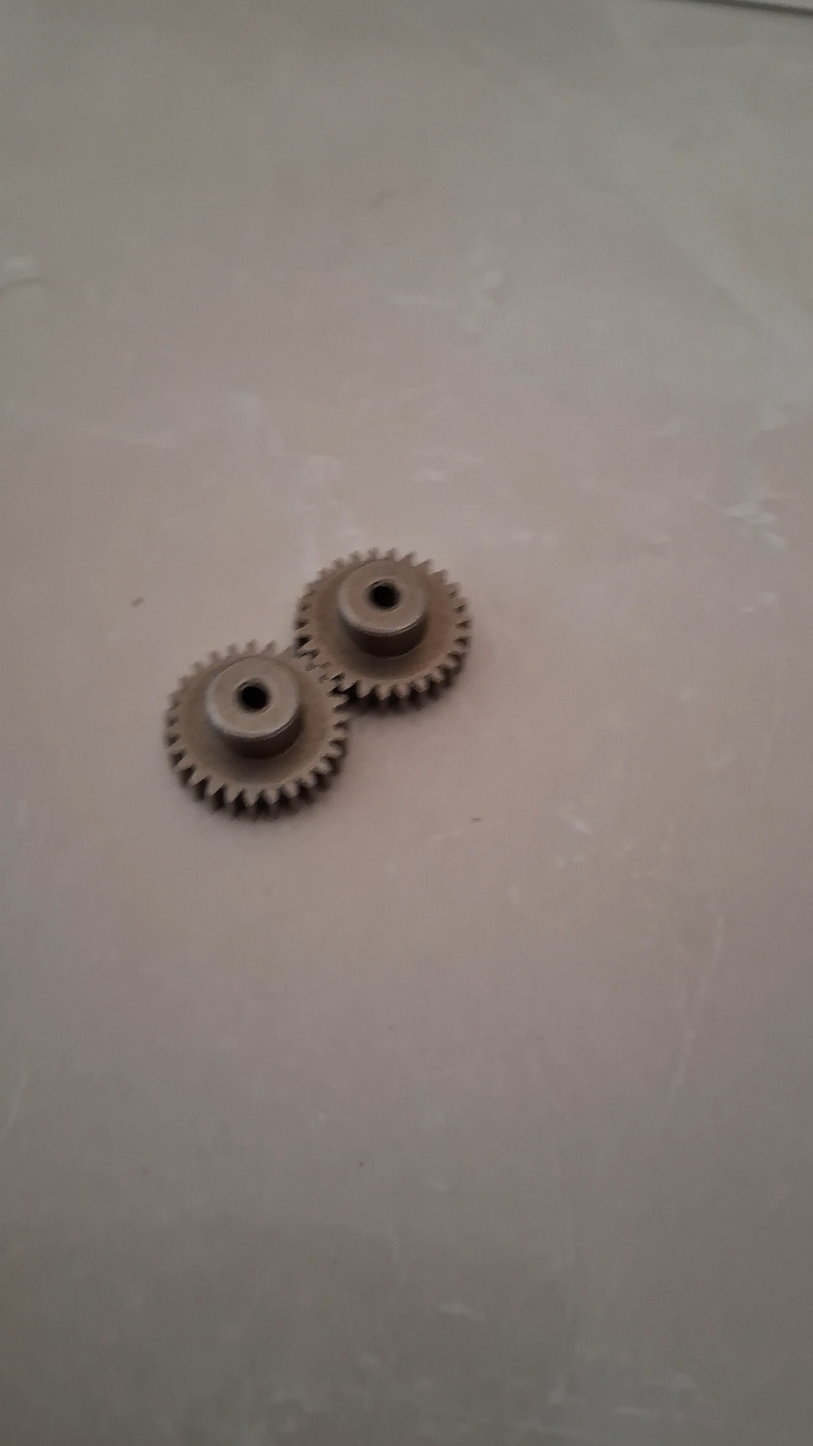spur gear: (166, 644, 348, 813), (295, 550, 470, 703)
